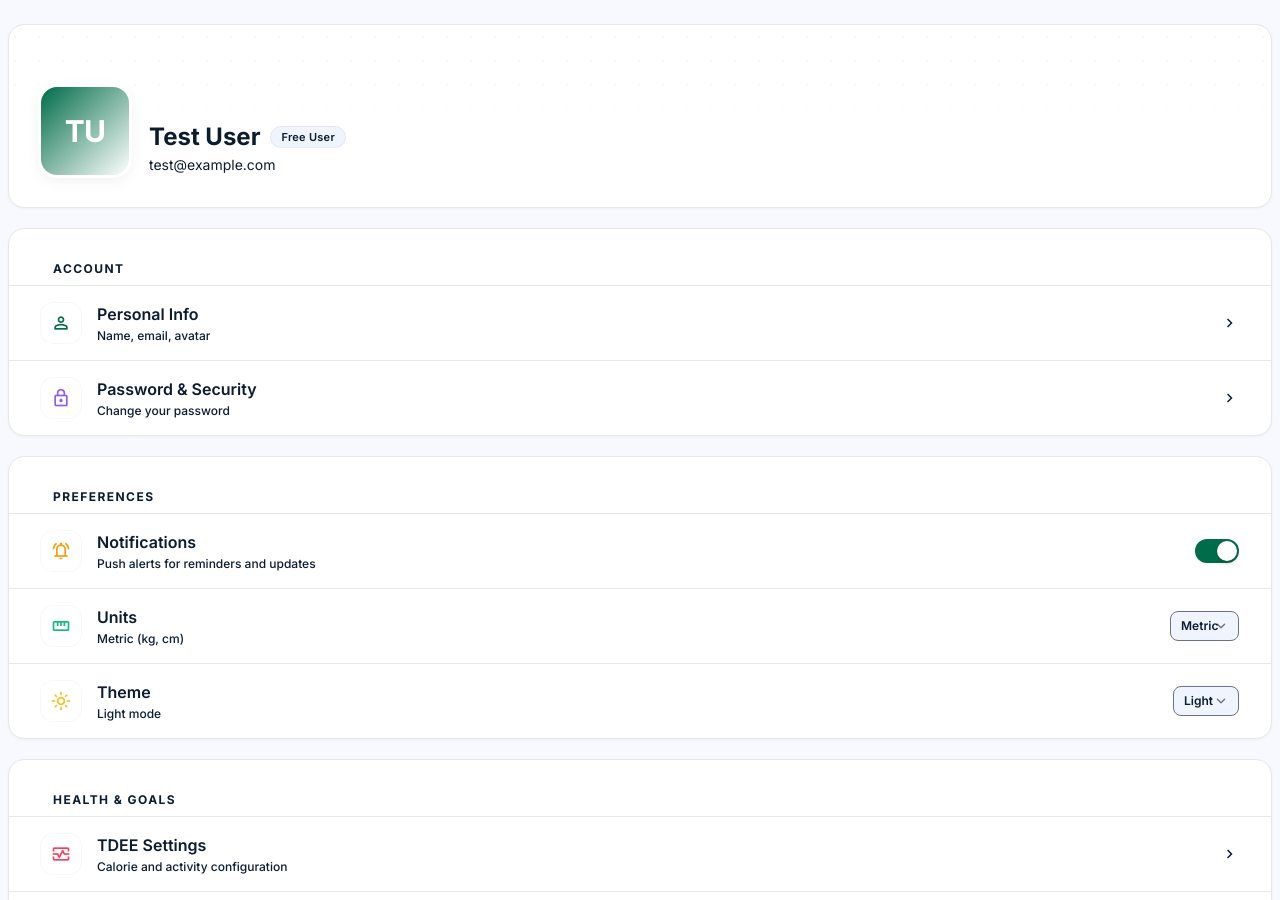
SettingsPage › opens Personal Info modal
The image size is (1280, 900).
Click the text "Personal Info".
click(148, 314)  # box top-left (97, 304), bottom-right (198, 324)
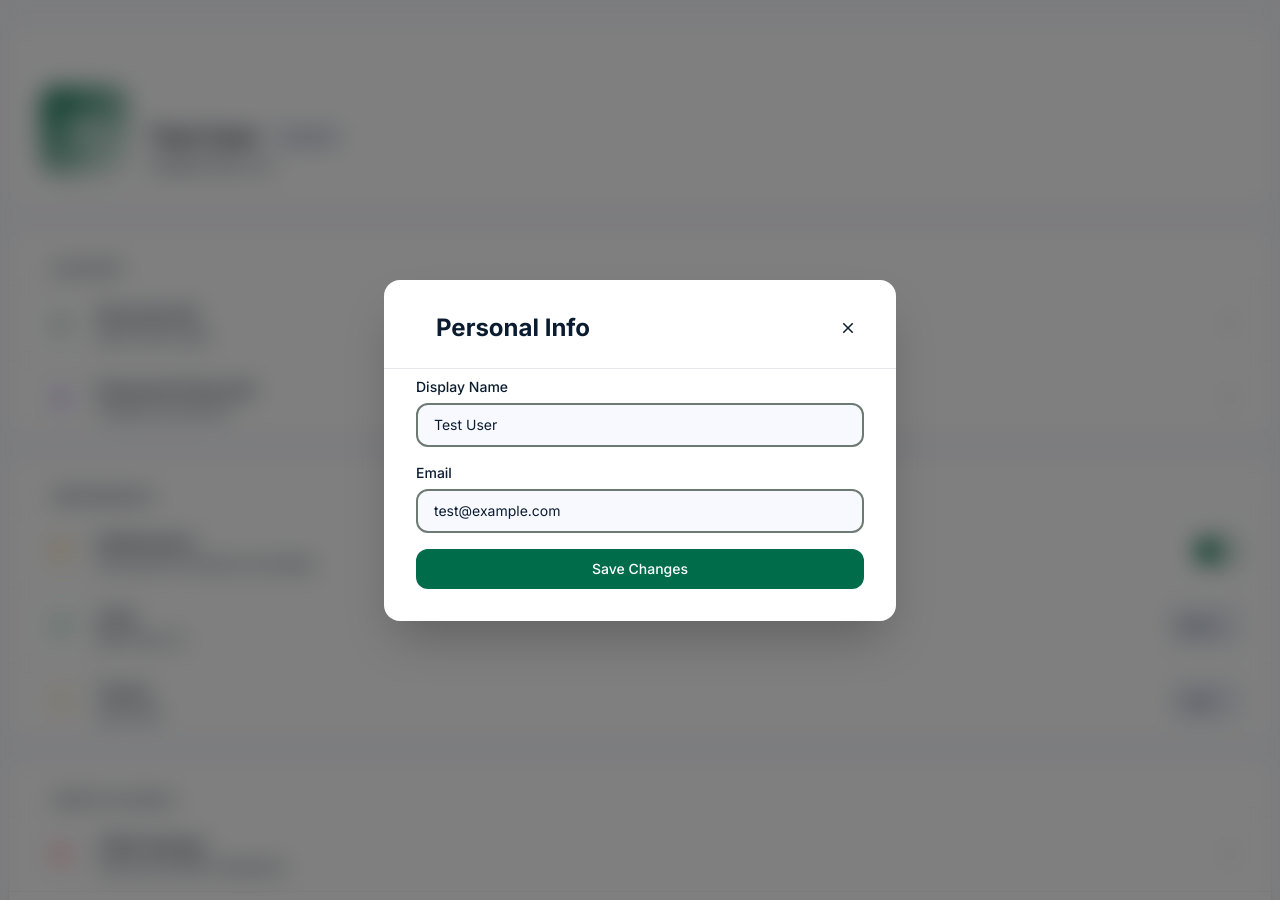
Now the button "Save Changes" is shown, box top-left (416, 548), bottom-right (864, 588)
